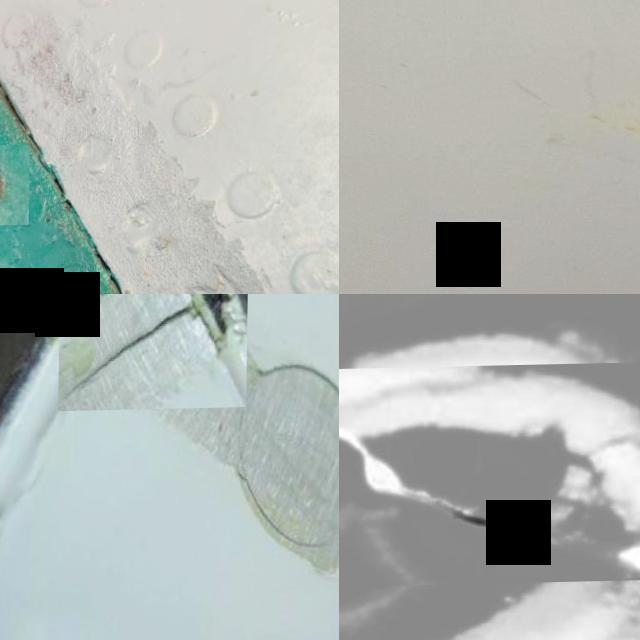Crack: (339, 364, 640, 590), (59, 294, 248, 411)
Missing_Fastener: (0, 145, 30, 227)
